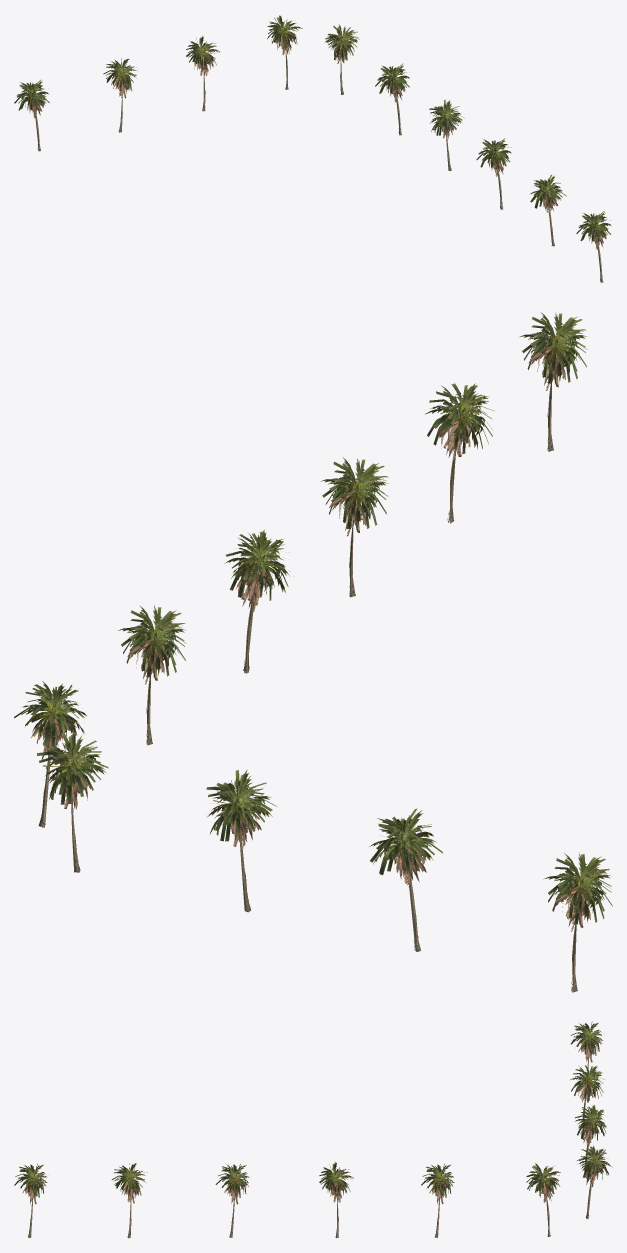
File: palms.glb
3 views of the same model, one above another, from view 1: azimuth 30°, elevation 25°; view 2: azimuth 150°, elevation 25°; view 3: azimuth 270°, elevation 25° (orthographic). The views are drawn at different scales.
Parts seen in each view (by area): view 1: SM_LSC_DD_PalmD_002.007, SM_LSC_DD_PalmD_002.005, SM_LSC_DD_PalmD_002.009, SM_LSC_DD_PalmD_002.001, SM_LSC_DD_PalmD_002.008, SM_LSC_DD_PalmD_002.006, SM_LSC_DD_PalmD_002.003, SM_LSC_DD_PalmD_002.010, SM_LSC_DD_PalmD_002.002, SM_LSC_DD_PalmD_002.004; view 2: SM_LSC_DD_PalmD_002.003, SM_LSC_DD_PalmD_002.007, SM_LSC_DD_PalmD_002.002, SM_LSC_DD_PalmD_002.001, SM_LSC_DD_PalmD_002.006, SM_LSC_DD_PalmD_002.009, SM_LSC_DD_PalmD_002.008, SM_LSC_DD_PalmD_002.010, SM_LSC_DD_PalmD_002.004, SM_LSC_DD_PalmD_002.005; view 3: SM_LSC_DD_PalmD_002.004, SM_LSC_DD_PalmD_002.005, SM_LSC_DD_PalmD_002.009, SM_LSC_DD_PalmD_002.008, SM_LSC_DD_PalmD_002.010, SM_LSC_DD_PalmD_002.006, SM_LSC_DD_PalmD_002.003, SM_LSC_DD_PalmD_002.007, SM_LSC_DD_PalmD_002.002, SM_LSC_DD_PalmD_002.001.
Boxes of the visible parts, <box> form: SM_LSC_DD_PalmD_002.007: <box>429,99,464,171</box>; SM_LSC_DD_PalmD_002.005: <box>325,24,359,94</box>; SM_LSC_DD_PalmD_002.009: <box>529,174,566,246</box>; SM_LSC_DD_PalmD_002.001: <box>14,79,49,151</box>; SM_LSC_DD_PalmD_002.008: <box>476,138,511,209</box>; SM_LSC_DD_PalmD_002.006: <box>375,63,409,135</box>; SM_LSC_DD_PalmD_002.003: <box>186,35,219,111</box>; SM_LSC_DD_PalmD_002.010: <box>576,211,611,282</box>; SM_LSC_DD_PalmD_002.002: <box>103,58,138,132</box>; SM_LSC_DD_PalmD_002.004: <box>267,15,302,89</box>; SM_LSC_DD_PalmD_002.003: <box>206,769,276,912</box>; SM_LSC_DD_PalmD_002.007: <box>224,529,294,673</box>; SM_LSC_DD_PalmD_002.002: <box>369,808,442,951</box>; SM_LSC_DD_PalmD_002.001: <box>543,852,612,992</box>; SM_LSC_DD_PalmD_002.006: <box>118,605,186,745</box>; SM_LSC_DD_PalmD_002.009: <box>425,383,494,523</box>; SM_LSC_DD_PalmD_002.008: <box>320,457,388,597</box>; SM_LSC_DD_PalmD_002.010: <box>520,312,587,451</box>; SM_LSC_DD_PalmD_002.004: <box>37,730,108,872</box>; SM_LSC_DD_PalmD_002.005: <box>14,681,86,827</box>; SM_LSC_DD_PalmD_002.004: <box>577,1145,612,1218</box>; SM_LSC_DD_PalmD_002.005: <box>526,1163,560,1236</box>; SM_LSC_DD_PalmD_002.009: <box>111,1163,147,1238</box>; SM_LSC_DD_PalmD_002.008: <box>215,1164,249,1237</box>; SM_LSC_DD_PalmD_002.010: <box>14,1163,47,1237</box>; SM_LSC_DD_PalmD_002.006: <box>421,1163,454,1237</box>; SM_LSC_DD_PalmD_002.003: <box>575,1104,606,1177</box>; SM_LSC_DD_PalmD_002.007: <box>319,1161,353,1238</box>; SM_LSC_DD_PalmD_002.002: <box>570,1065,604,1135</box>; SM_LSC_DD_PalmD_002.001: <box>570,1021,603,1074</box>.
Bounding box in the file's own units: 5.67 × 1.18 × 9.13.
Materials: 3 (3 with a texture image).
